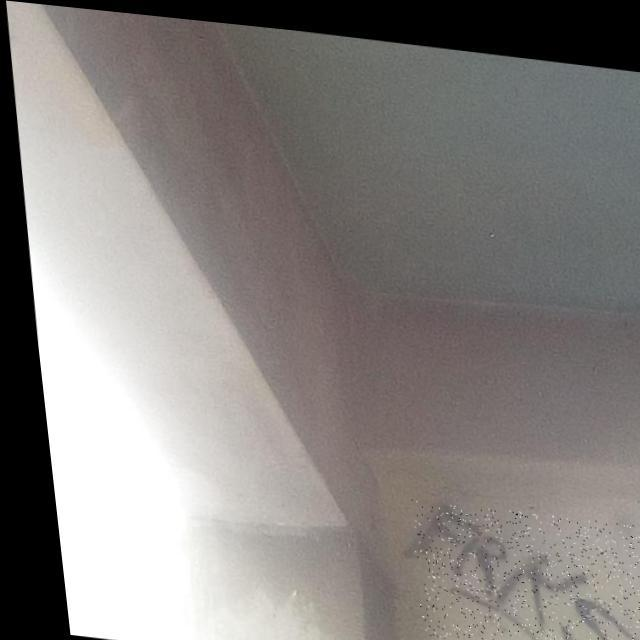-: (395, 490, 640, 640)
